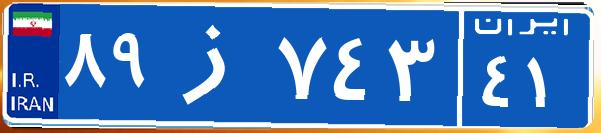1: (525, 38, 570, 115)
3: (385, 28, 445, 110)
4: (330, 28, 385, 110), (475, 38, 525, 113)
7: (273, 28, 330, 110)
8: (57, 26, 110, 107)
9: (110, 28, 158, 105)
ز: (158, 15, 273, 115)
